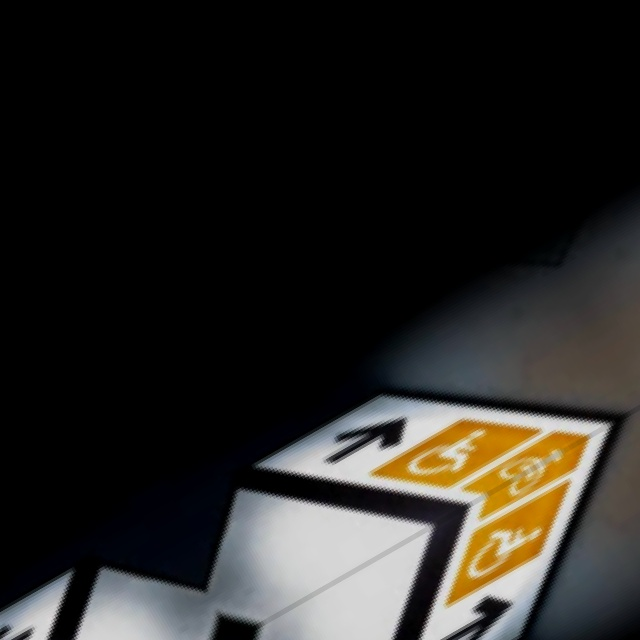ISA: (405, 418, 496, 490), (458, 511, 549, 583)
